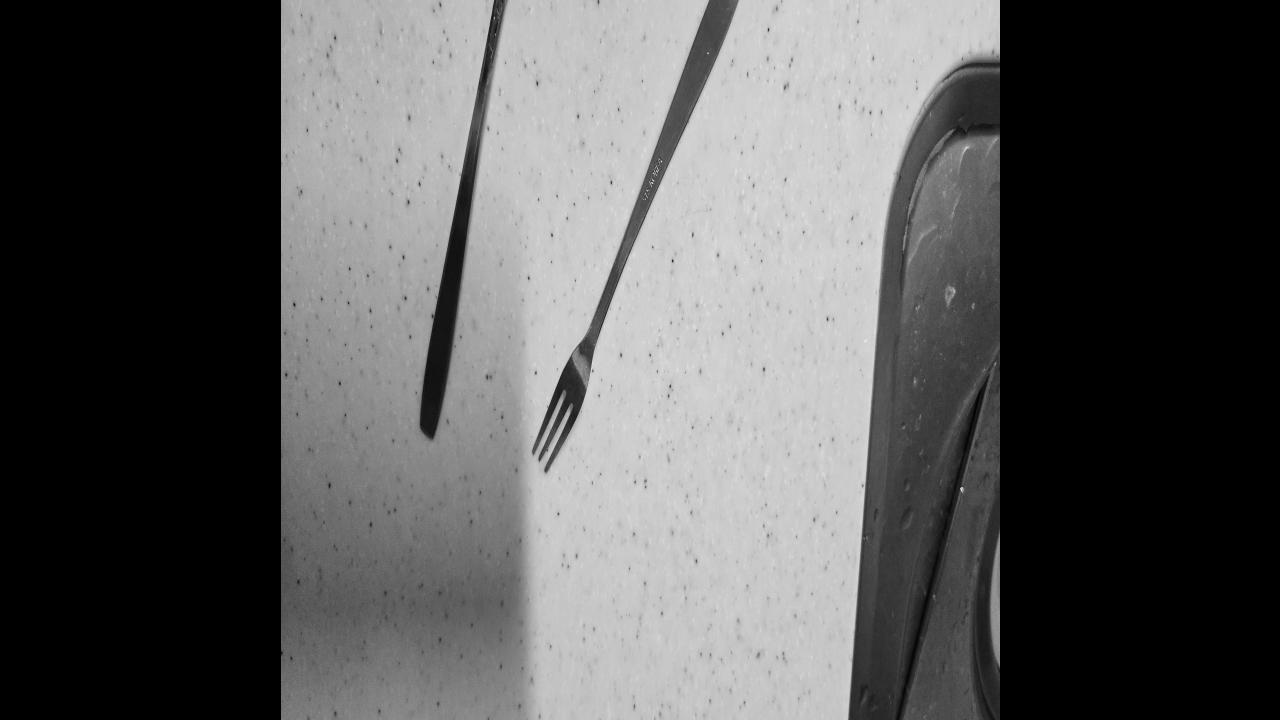fork: (536, 0, 747, 476), (418, 0, 547, 434)
